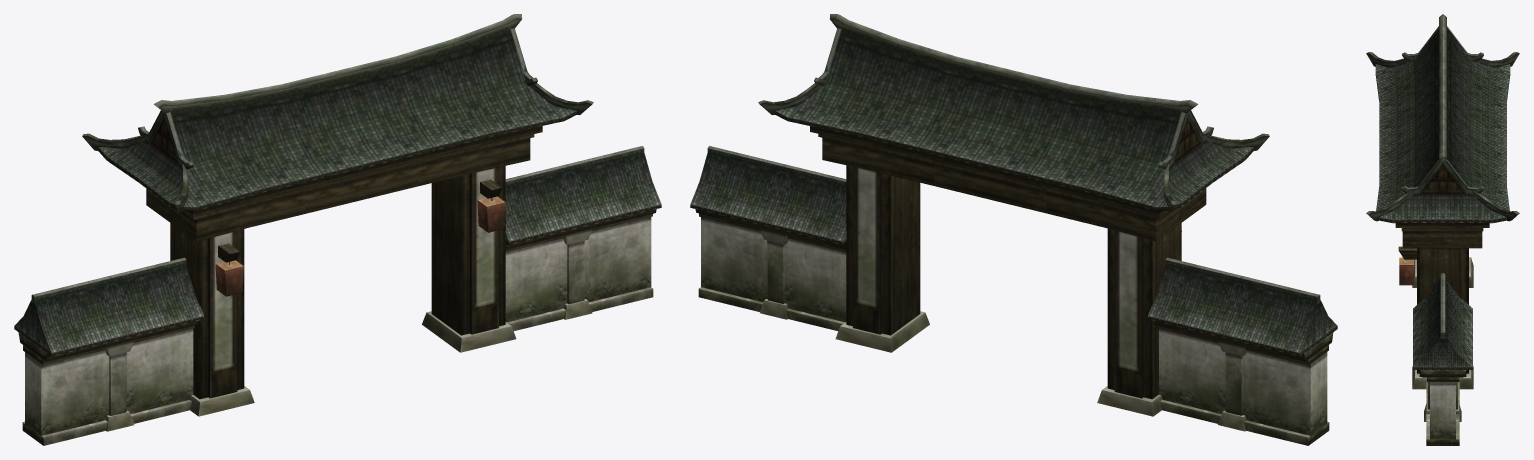
File: ob-10-02-wall-door.glb
3 views of the same model, side by side, from view 1: azimuth 30°, elevation 25°; view 2: azimuth 150°, elevation 25°; view 3: azimuth 270°, elevation 25° (orthographic). The views are drawn at different scales.
Visible parts, largest first — view 1: Object05; view 2: Object05; view 3: Object05.
Boxes of the visible parts, box(x1,y1,x2,y2) form: Object05: box(14, 14, 661, 445); Object05: box(690, 14, 1337, 445); Object05: box(1366, 14, 1519, 445).
Bounding box in the file's own units: 20 × 9.62 × 5.49.
Materials: 1 (1 with a texture image).
